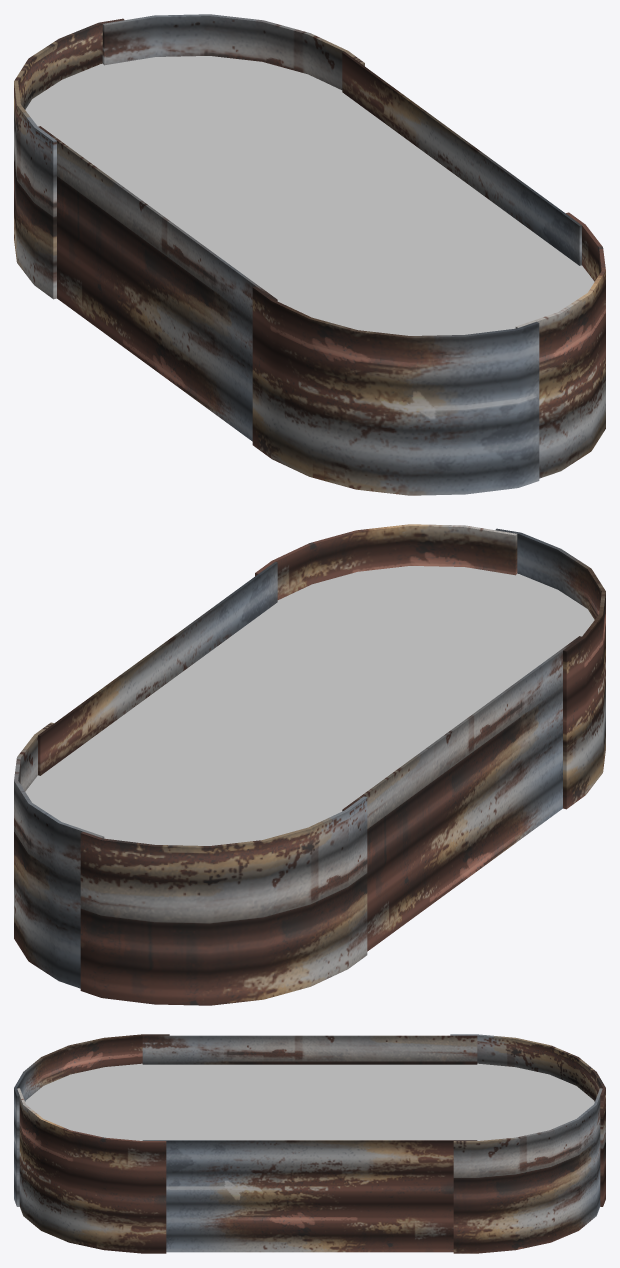
File: raisedBed14.fbx
3 renders of one model, top to bottom at view 1: azimuth 30°, elevation 25°; view 2: azimuth 150°, elevation 25°; view 3: azimuth 270°, elevation 25°, orthographic. The views are drawn at different scales.
Visible parts, largest first — view 1: raisedBed14; view 2: raisedBed14; view 3: raisedBed14.
Part boxes in pixels (left/top/right/bottom): raisedBed14: left=14, top=14, right=605, bottom=495; raisedBed14: left=14, top=524, right=605, bottom=1005; raisedBed14: left=14, top=1034, right=605, bottom=1253.
Bounding box in the file's own units: 125 × 60 × 289.
